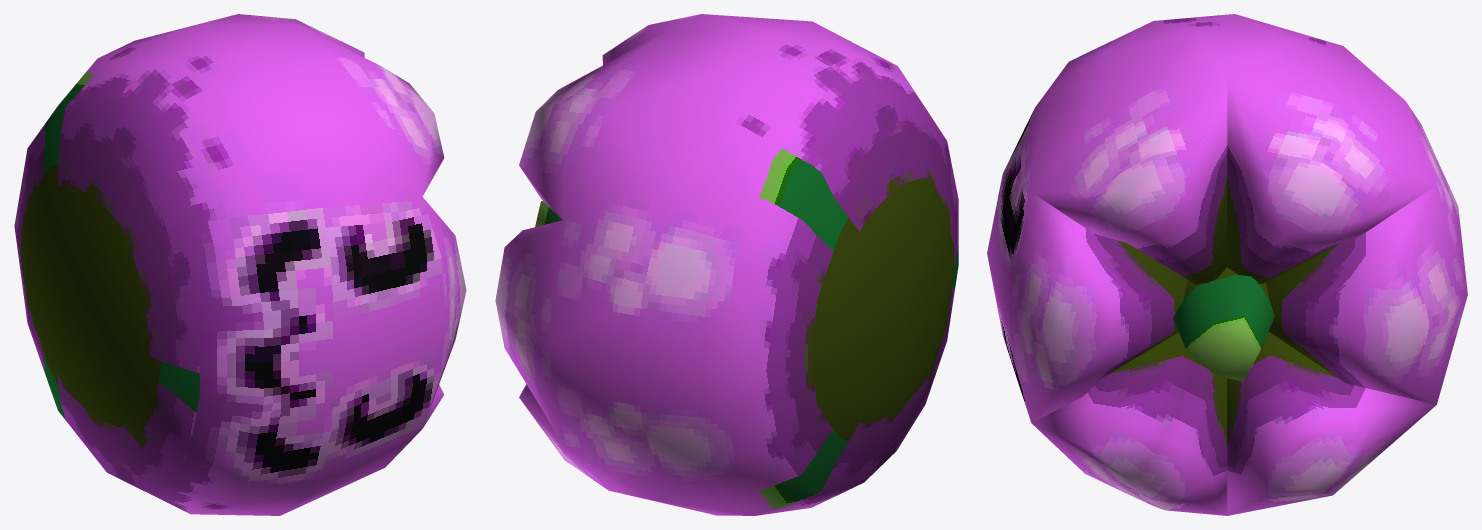
Rendered from hlmt_jackolantern_1.dae.
The picture shows the model from 3 angles, left to right: view 1: azimuth 30°, elevation 25°; view 2: azimuth 150°, elevation 25°; view 3: azimuth 270°, elevation 25°; orthographic projection.
Visible parts, largest first — view 1: hlmt_jackolantern_1; view 2: hlmt_jackolantern_1; view 3: hlmt_jackolantern_1.
Part boxes in pixels (x1,y1,x2,y2): hlmt_jackolantern_1: (14, 14, 466, 515); hlmt_jackolantern_1: (495, 14, 958, 515); hlmt_jackolantern_1: (987, 14, 1467, 515).
Bounding box in the file's own units: 23 × 28.37 × 27.49.
2 materials, 2 textured.
